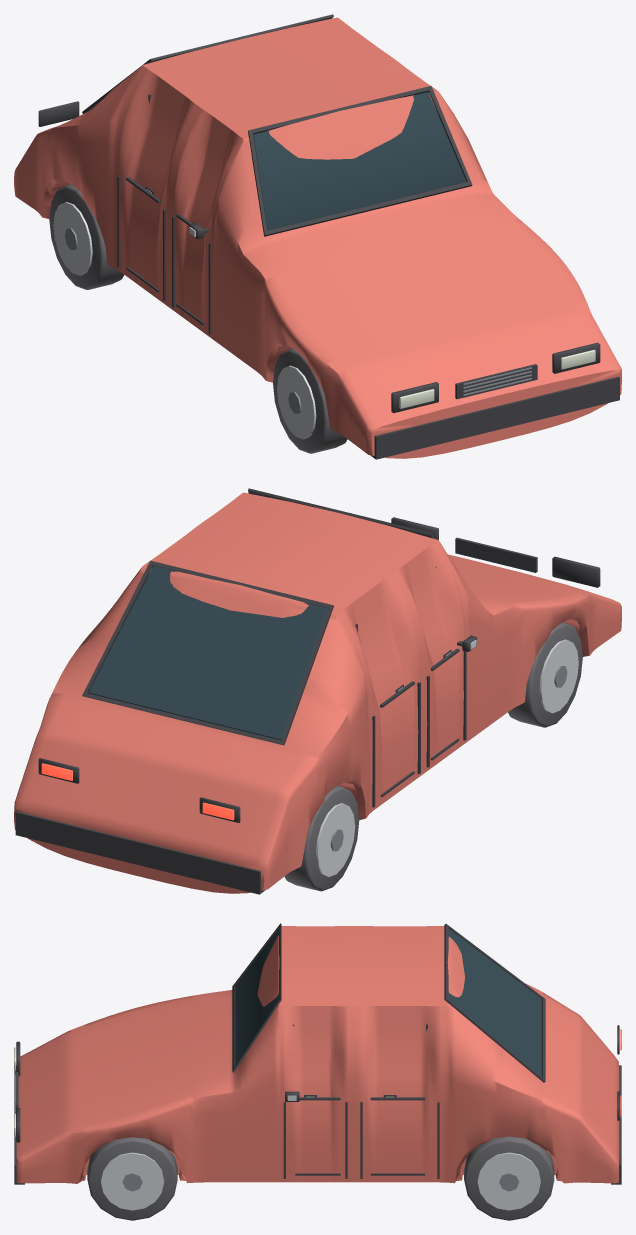
File: Car_Hatch_25.fbx
3 views of the same model, one above another, from view 1: azimuth 30°, elevation 25°; view 2: azimuth 150°, elevation 25°; view 3: azimuth 270°, elevation 25° (orthographic). The views are drawn at different scales.
Visible parts, largest first — view 1: LOD0; view 2: LOD0; view 3: LOD0.
Boxes of the visible parts, bbox=[...] form: LOD0: bbox=[14, 14, 621, 459]; LOD0: bbox=[14, 488, 621, 894]; LOD0: bbox=[14, 923, 621, 1220].
Size of what is drawn, in the model's own units: 182 by 152 by 404.
